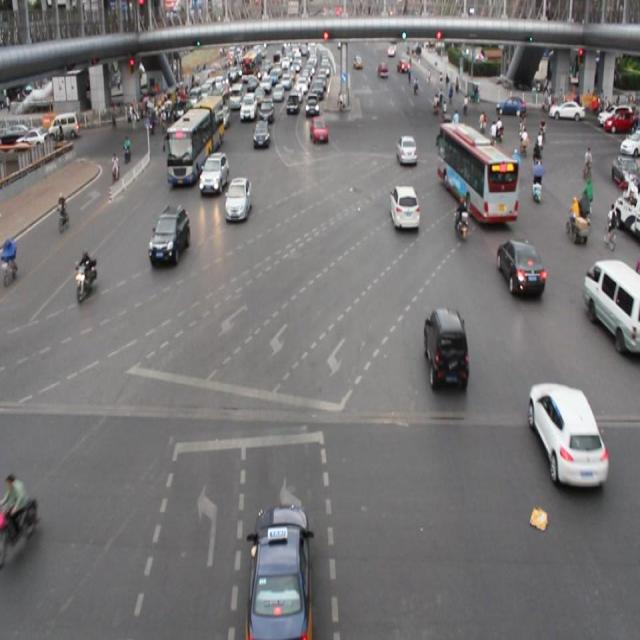car: (247, 503, 311, 640), (530, 381, 606, 487), (424, 307, 470, 391), (499, 239, 543, 297), (149, 206, 189, 265), (389, 182, 419, 228), (224, 178, 251, 224), (200, 151, 227, 193), (308, 114, 329, 146), (396, 135, 416, 167), (253, 119, 271, 149)
truck: (586, 258, 640, 347)
van: (438, 121, 516, 222), (170, 96, 223, 183)
